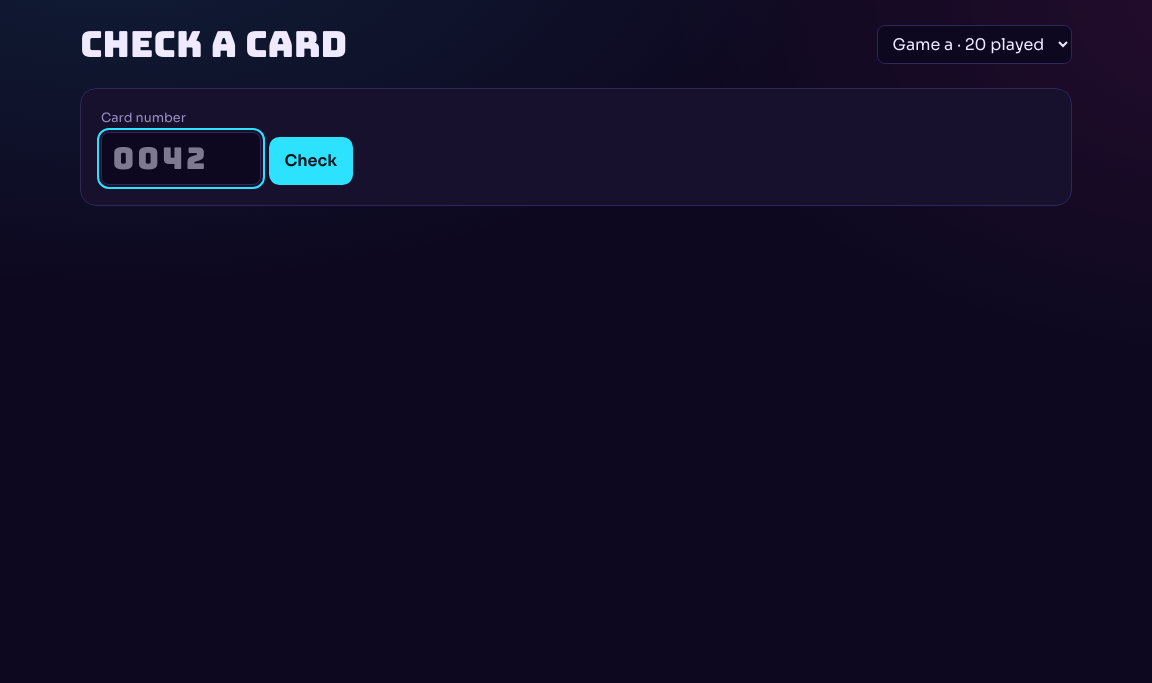
Test: recording a winner saves it to the round
The image size is (1152, 683).
Type "42" into the field labelled "Card number" at (181, 158), box [101, 132, 261, 185]
Then press Enter
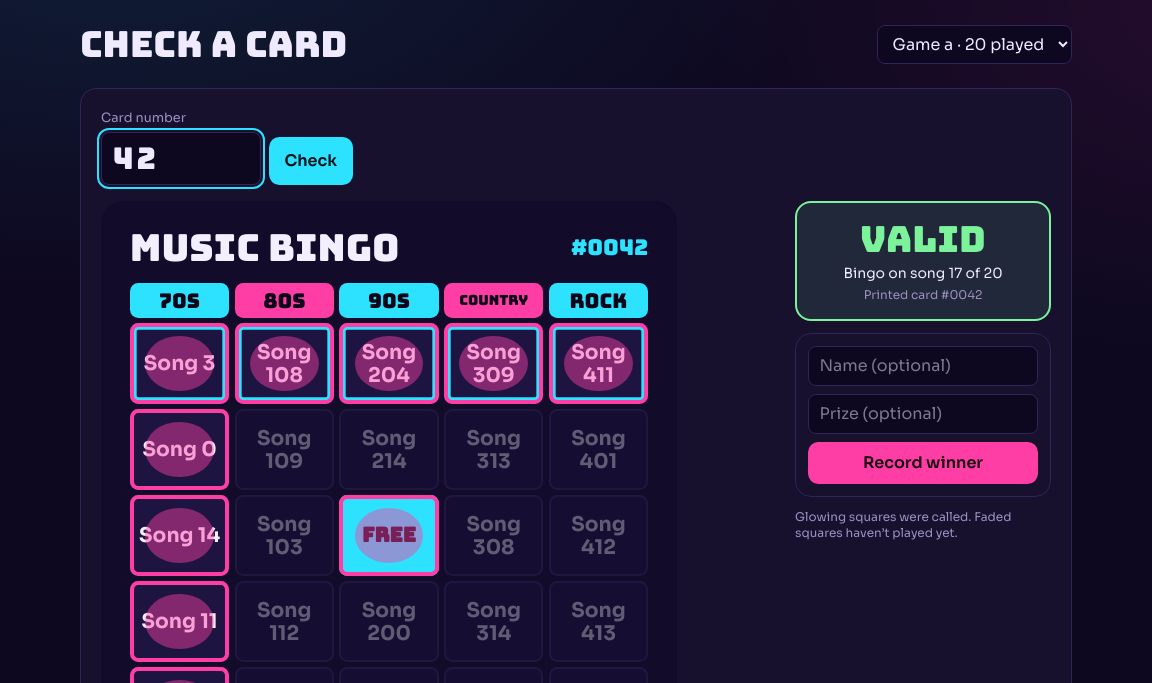
Type "Pat" into the field named "Winner name" at (923, 366), box [808, 346, 1038, 386]
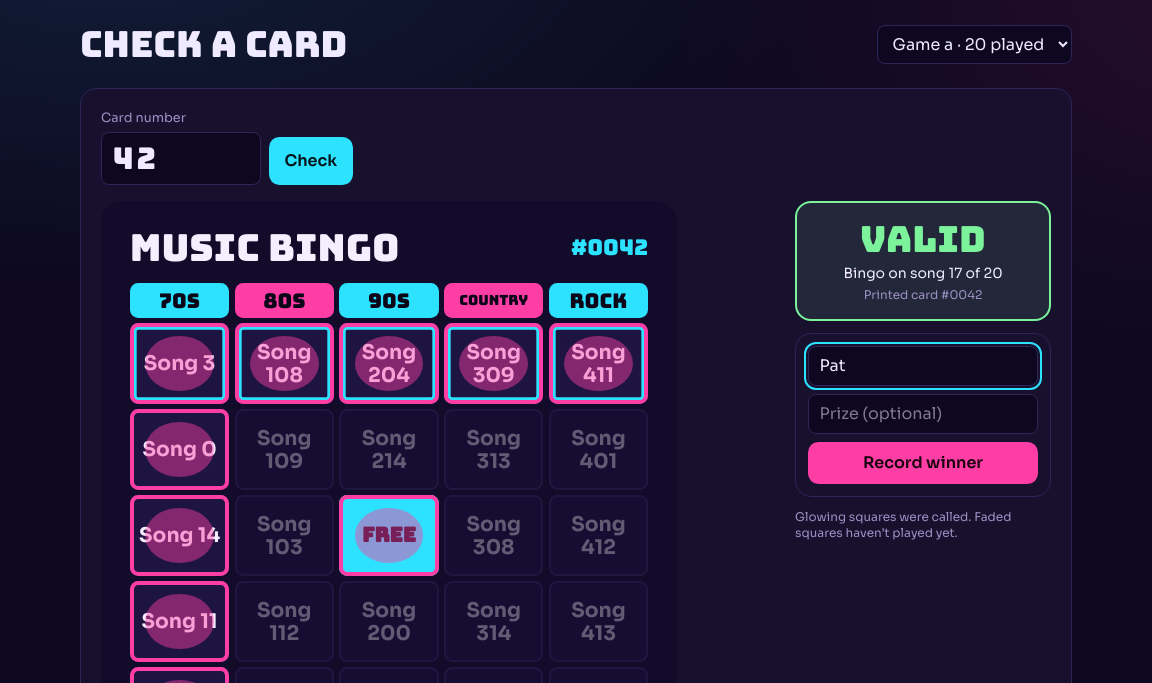
Click the button "Record winner" at (923, 463), box [808, 442, 1038, 484]
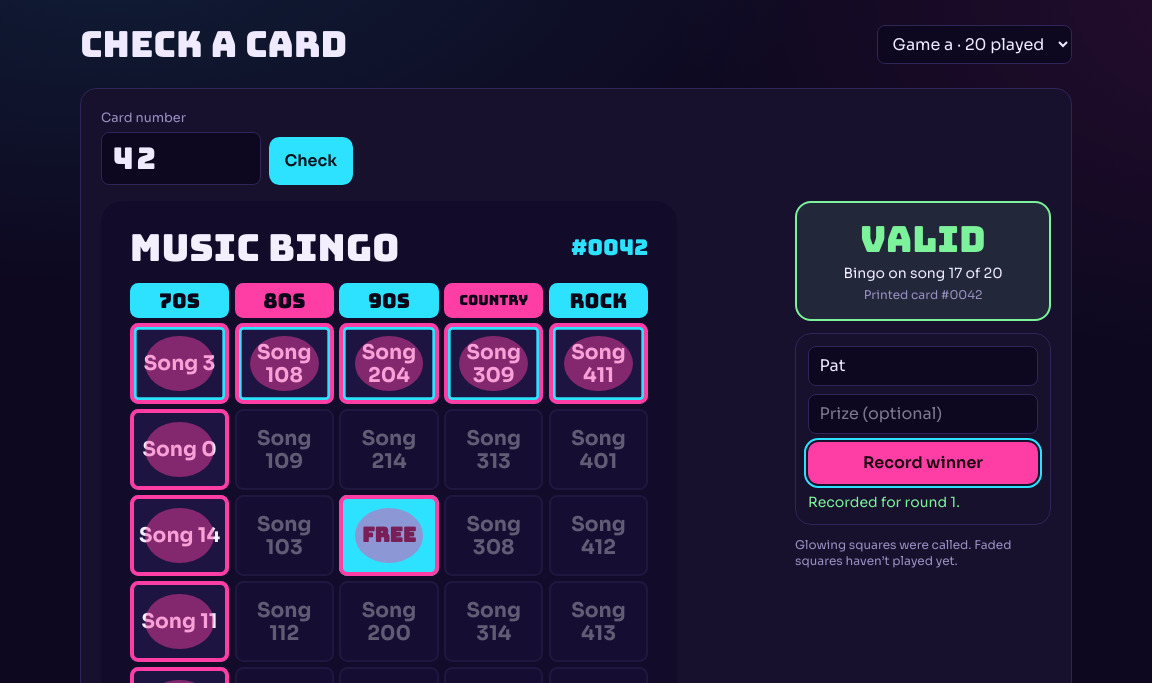
Check: the text "Recorded for round 1." is shown, box [808, 493, 960, 511]
